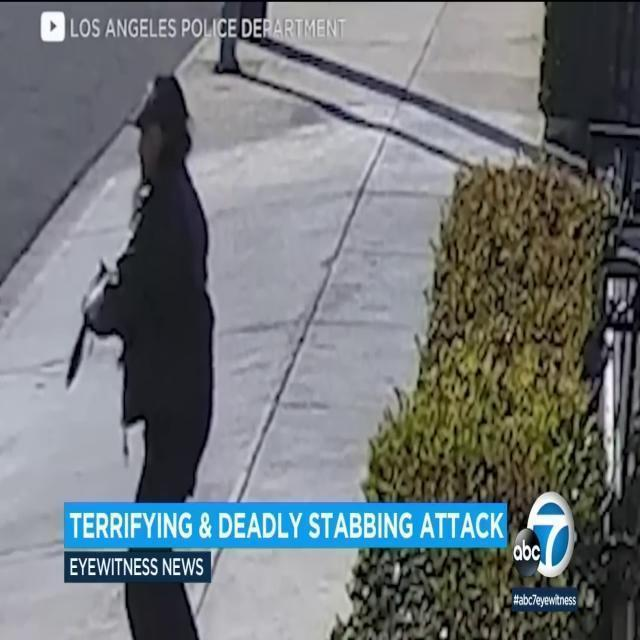Knife: (62, 274, 102, 395)
